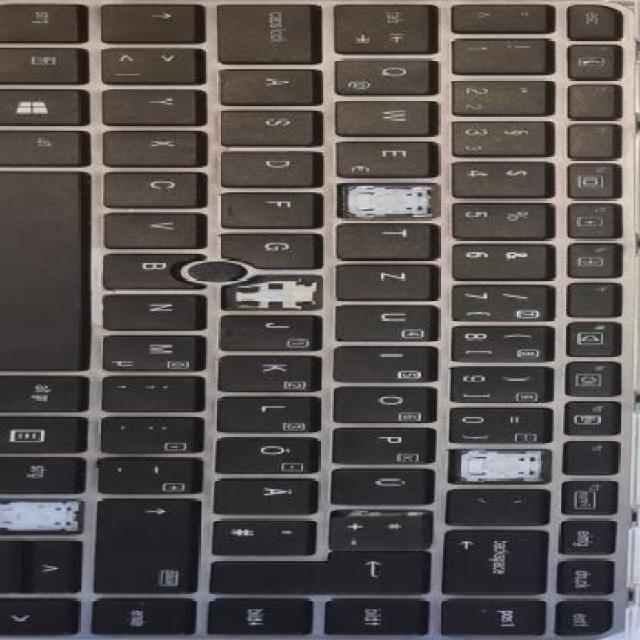Keyboard problems: (448, 449, 551, 483), (225, 275, 320, 308), (342, 185, 437, 217), (0, 498, 83, 532)
